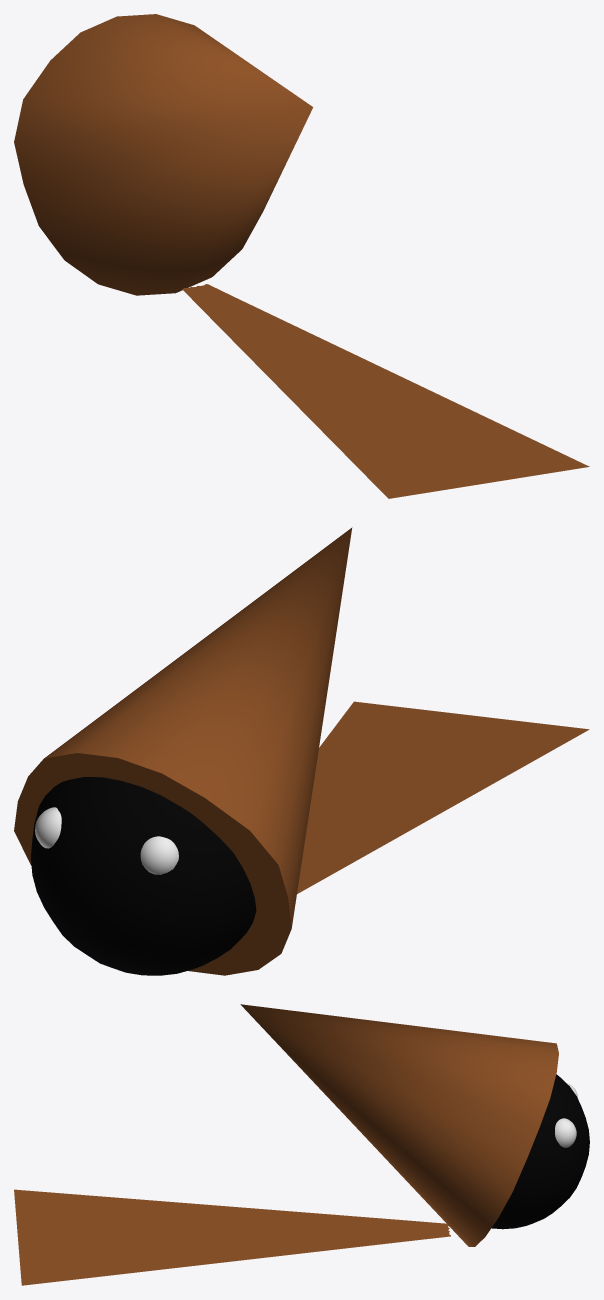
The model's file is Minion.fbx.
3 views of the same model, one above another, from view 1: azimuth 30°, elevation 25°; view 2: azimuth 150°, elevation 25°; view 3: azimuth 270°, elevation 25° (orthographic). The views are drawn at different scales.
Parts seen in each view (by area): view 1: pCone1, pPlane1; view 2: pCone1, pSphere1, pPlane1, pSphere3, pSphere2; view 3: pCone1, pPlane1, pSphere1, pSphere2.
Part boxes in pixels (box(x1,y1,x2,y2)): pCone1: box(14, 14, 313, 295); pPlane1: box(182, 284, 589, 498); pCone1: box(14, 527, 352, 975); pSphere1: box(31, 777, 256, 975); pPlane1: box(297, 701, 589, 893); pSphere3: box(140, 836, 178, 874); pSphere2: box(35, 807, 61, 848); pCone1: box(240, 1004, 558, 1246); pPlane1: box(14, 1189, 450, 1285); pSphere1: box(492, 1074, 589, 1229); pSphere2: box(555, 1118, 576, 1147).
Size of the model in its own units: 1.93 by 2.13 by 4.82.
